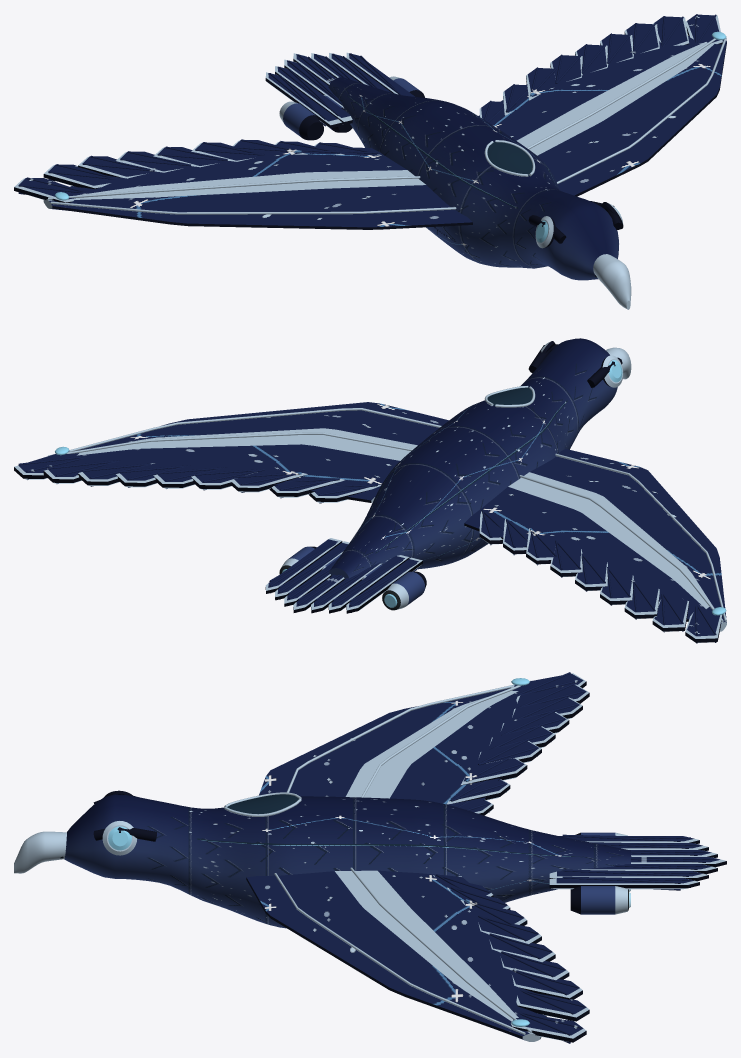
The picture shows the model from 3 angles, top to bottom: view 1: azimuth 30°, elevation 25°; view 2: azimuth 150°, elevation 25°; view 3: azimuth 270°, elevation 25°; orthographic projection. The views are drawn at different scales.
Parts seen in each view (by area): view 1: falcon_hull; view 2: falcon_hull; view 3: falcon_hull.
Boxes of the visible parts, box(x1,y1,x2,y2) form: falcon_hull: box(14, 14, 726, 309); falcon_hull: box(14, 338, 726, 643); falcon_hull: box(14, 672, 726, 1043).
Size of the model in its own units: 40 by 6.37 by 32.98.
1 material, 1 textured.
